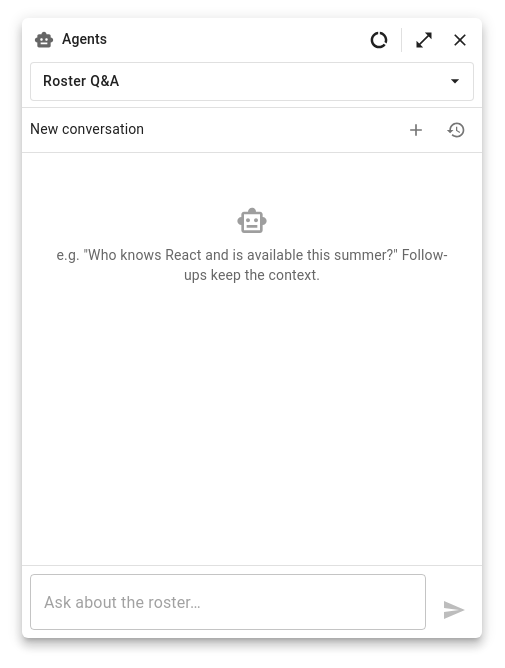
it: agent dock navigation (P1T-152) › reaches Tailor CV and mounts its panel
Click the button "Roster Q&A": (81, 81) 30,62 -> 474,100
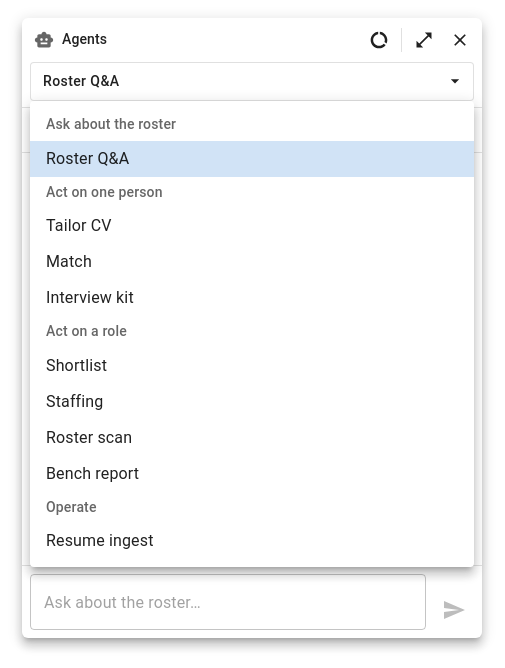
Click the menu item "Tailor CV": (79, 226) 46,216 -> 112,235
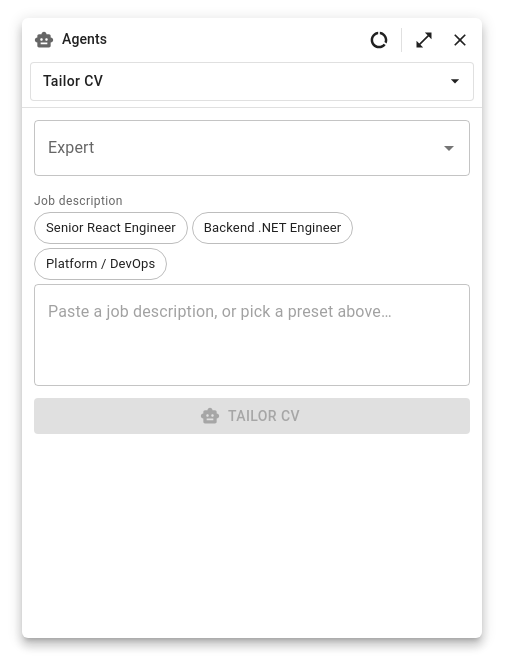
Expected: the text "Tailor CV" is shown, 43,69 -> 103,94
